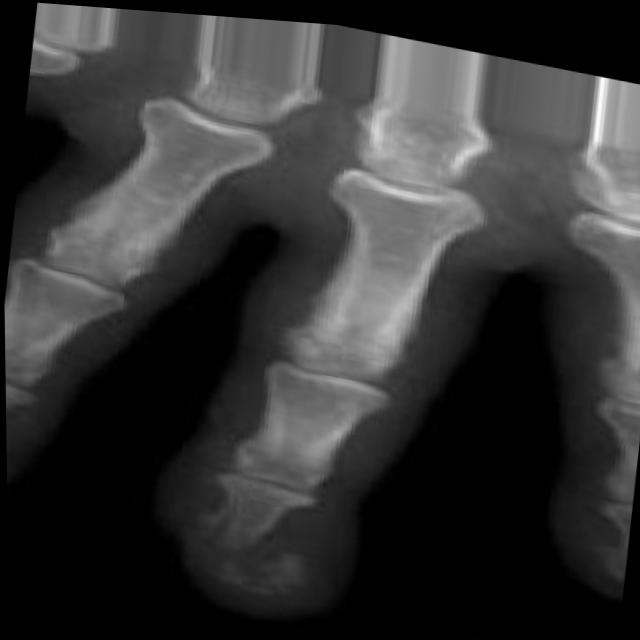fracture: (183, 478, 273, 558)
